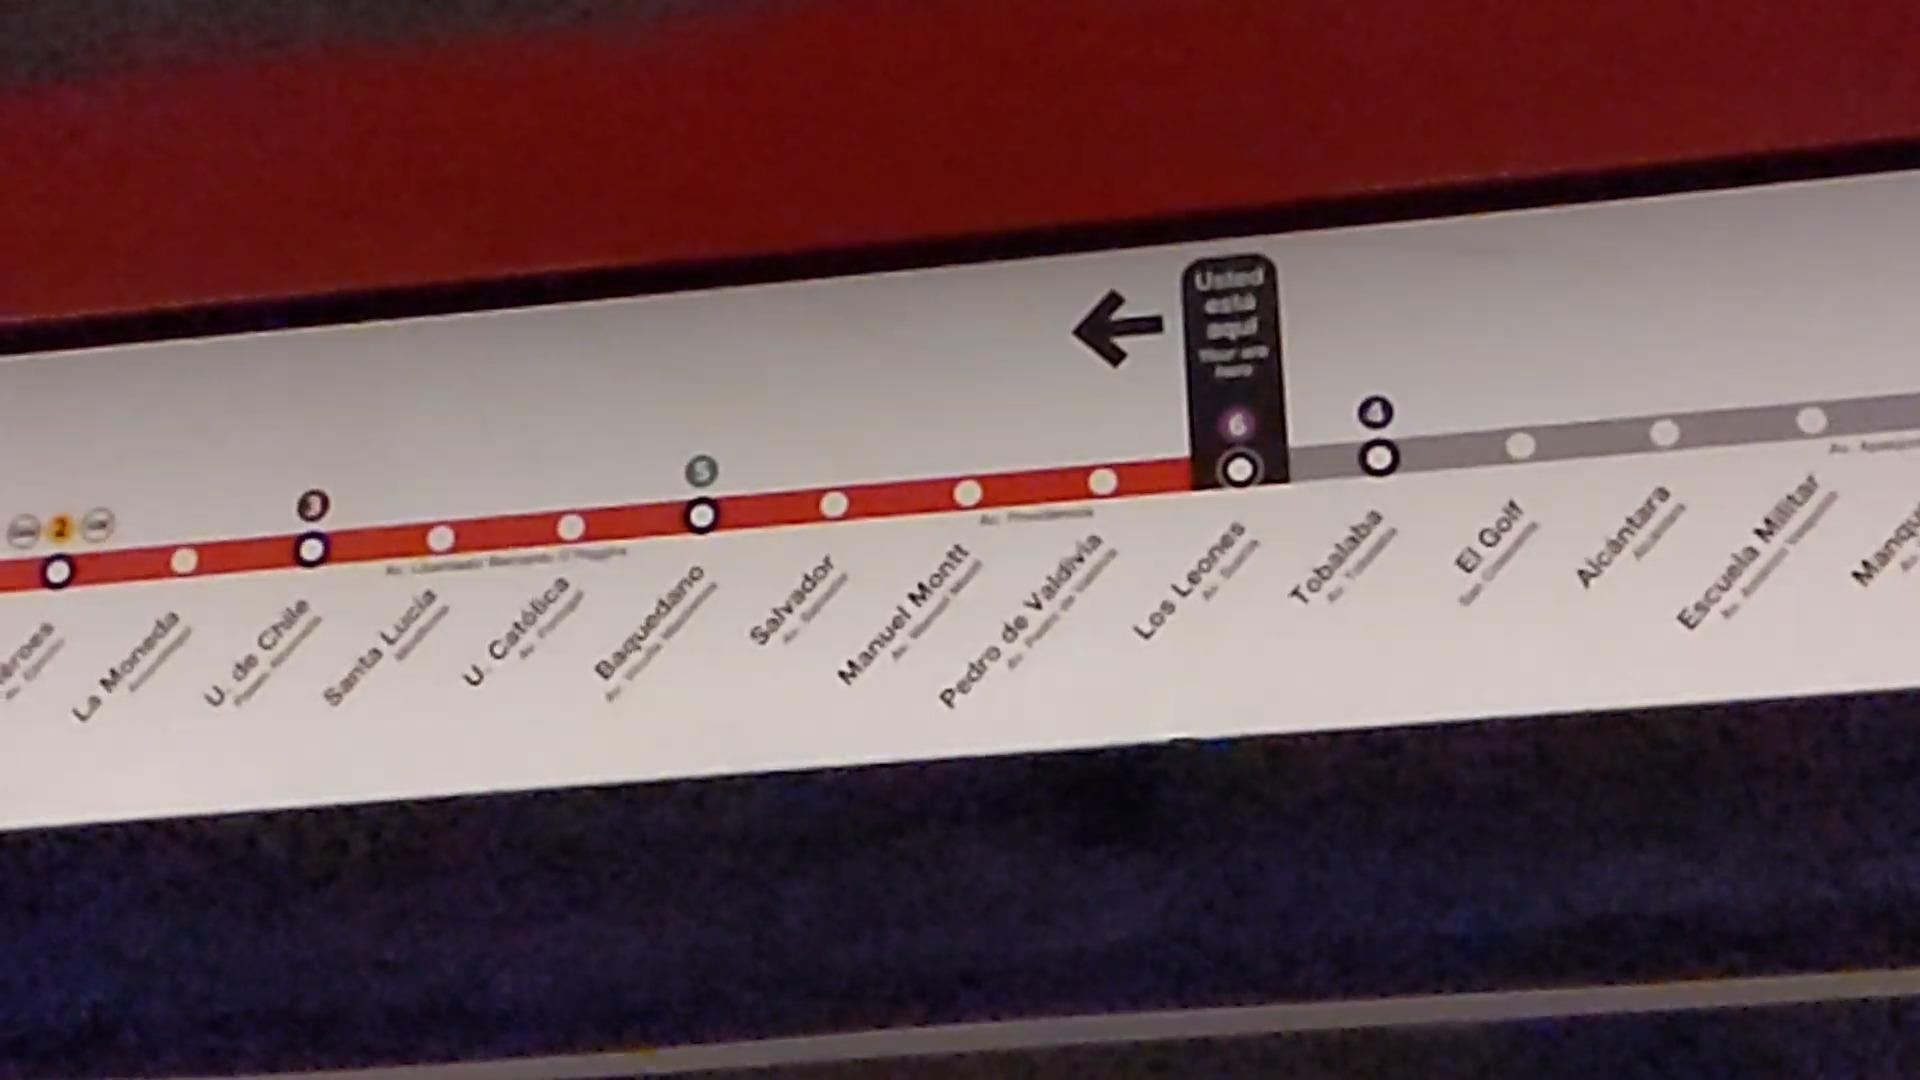left arrow: (1069, 285, 1172, 375)
